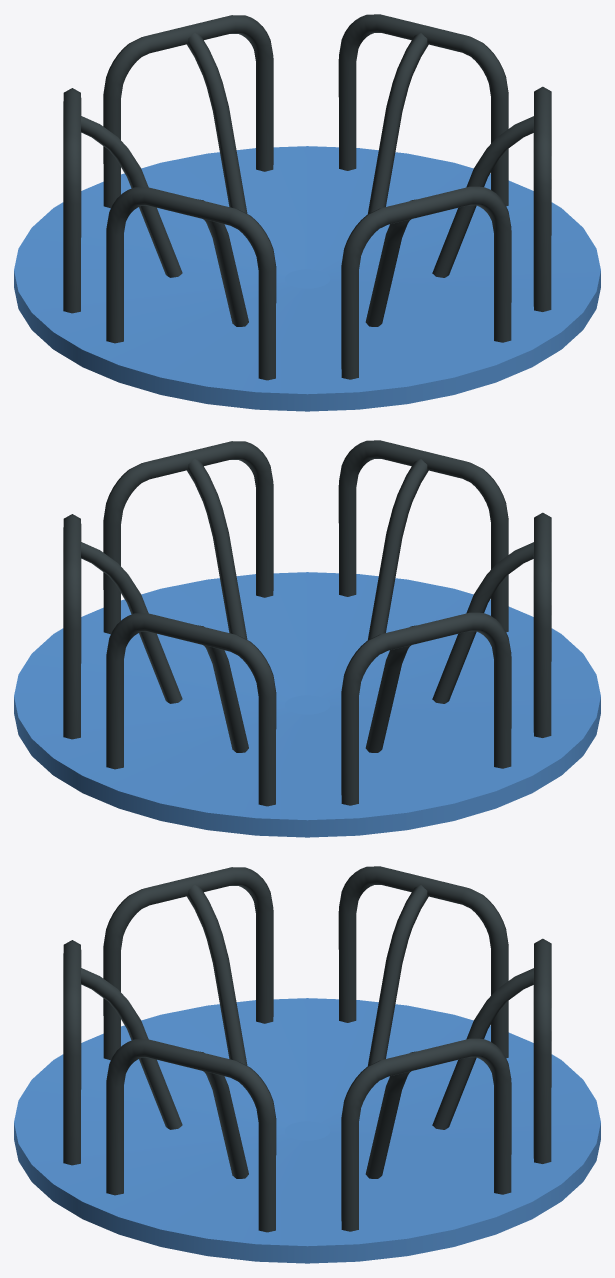
The model's file is Roundabout_02.fbx.
3 views of the same model, one above another, from view 1: azimuth 30°, elevation 25°; view 2: azimuth 150°, elevation 25°; view 3: azimuth 270°, elevation 25° (orthographic).
Parts seen in each view (by area): view 1: Roundabout_02; view 2: Roundabout_02; view 3: Roundabout_02.
Part boxes in pixels (box(x1,y1,x2,y2)): Roundabout_02: box(14, 14, 600, 411); Roundabout_02: box(14, 440, 600, 837); Roundabout_02: box(14, 866, 600, 1263).
Size of the model in its own units: 2.49 by 0.8246 by 2.49.
